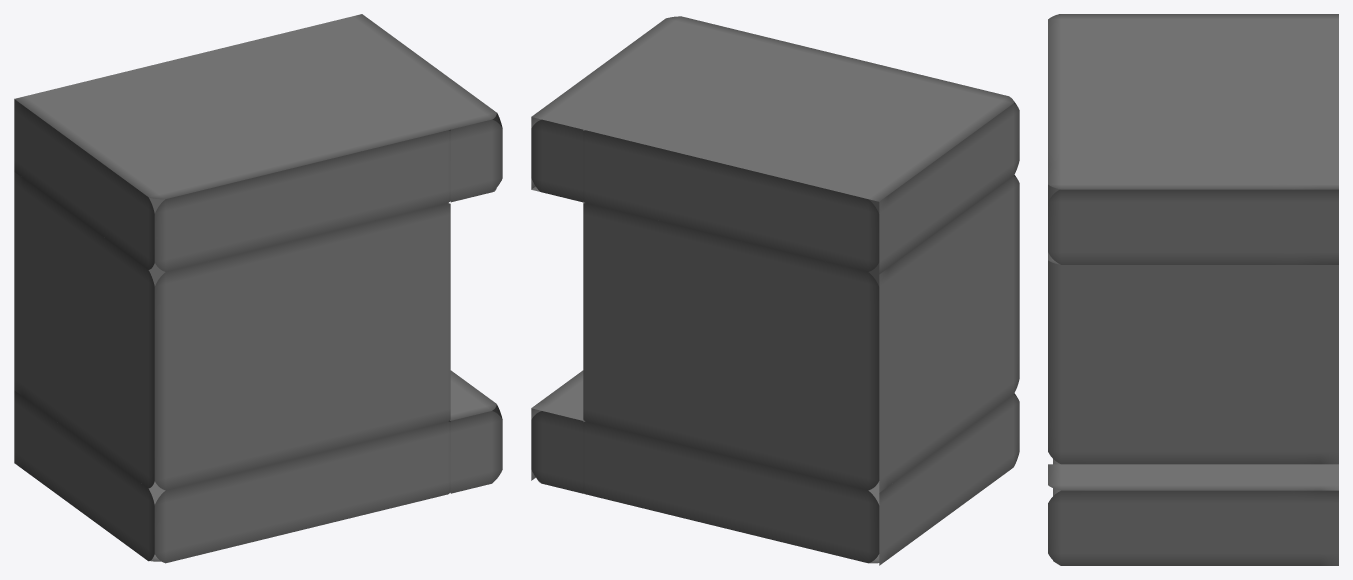
File: topleft.obj
3 renders of one model, left to right at view 1: azimuth 30°, elevation 25°; view 2: azimuth 150°, elevation 25°; view 3: azimuth 270°, elevation 25°, orthographic. The views are drawn at different scales.
Visible parts, largest first — view 1: lefttop; view 2: lefttop; view 3: lefttop.
Boxes of the visible parts, left/top/right/bottom form: lefttop: left=14, top=14, right=502, bottom=563; lefttop: left=531, top=16, right=1019, bottom=565; lefttop: left=1048, top=14, right=1338, bottom=565.
Size of the model in its own units: 1 by 1 by 0.7.
